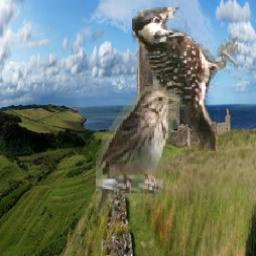Sparrow: (96, 84, 182, 216)
Woodpecker: (131, 8, 237, 152)
